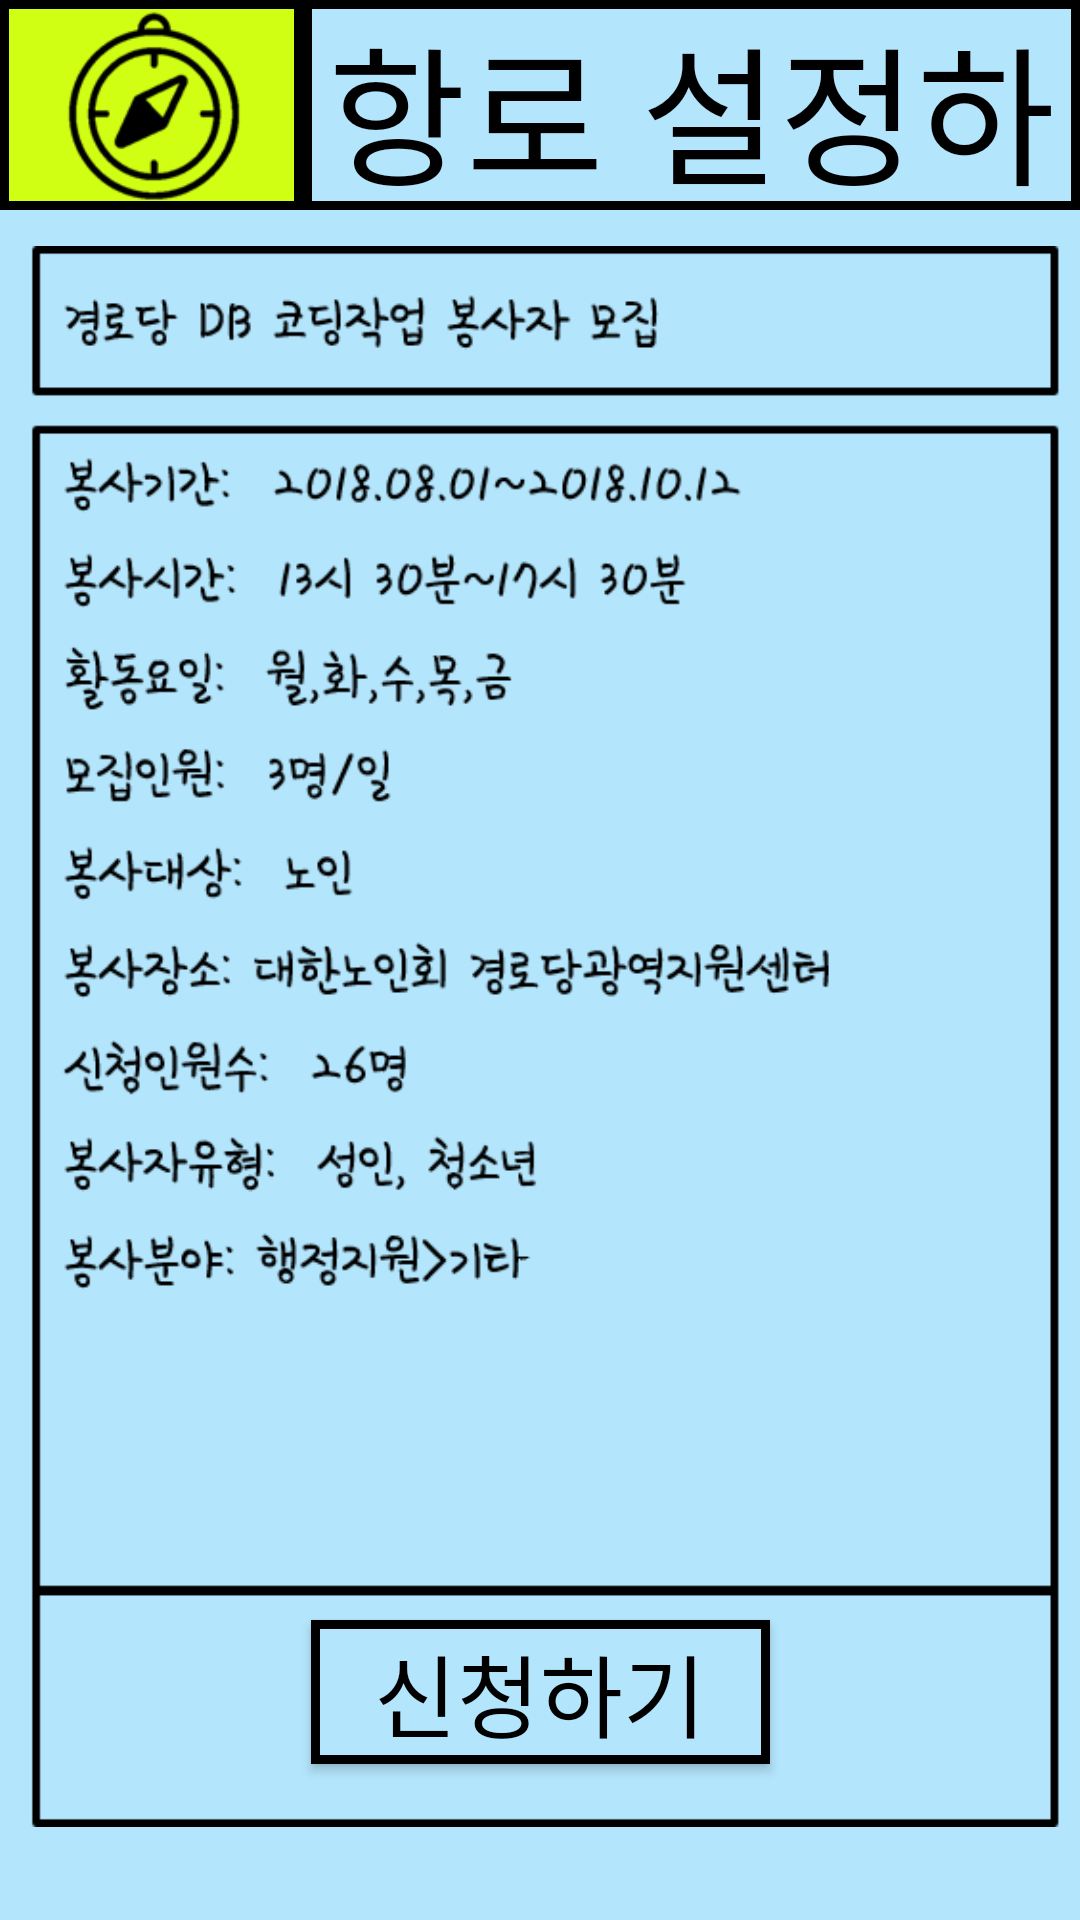

Named icons in this screenshot (1080*1920) and their centers, point (x, y):
compassimage: point (151, 105)
